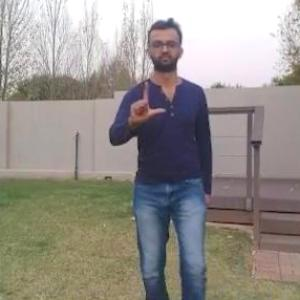land_hand: (125, 71, 168, 127)
